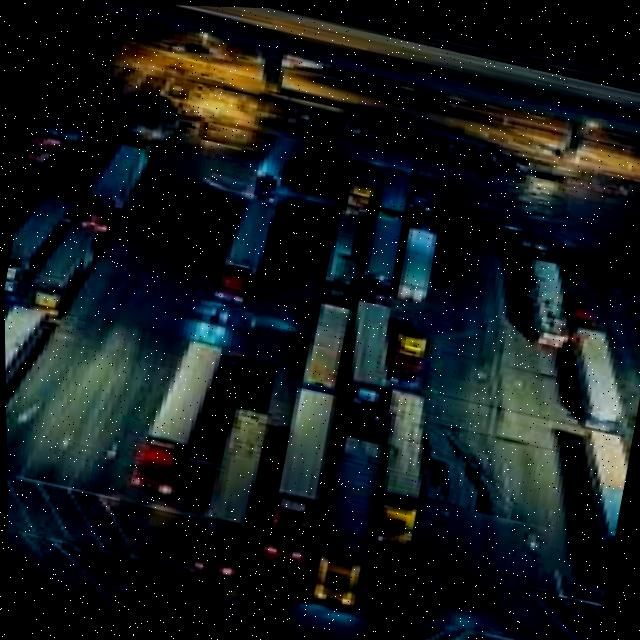truck: (124, 330, 227, 503), (257, 384, 341, 562), (185, 402, 266, 585), (310, 431, 386, 611), (361, 385, 425, 547), (551, 305, 640, 421), (207, 190, 283, 312), (74, 138, 157, 235), (25, 219, 100, 322), (509, 244, 579, 344), (298, 281, 354, 390), (4, 303, 46, 421), (392, 215, 438, 303)
